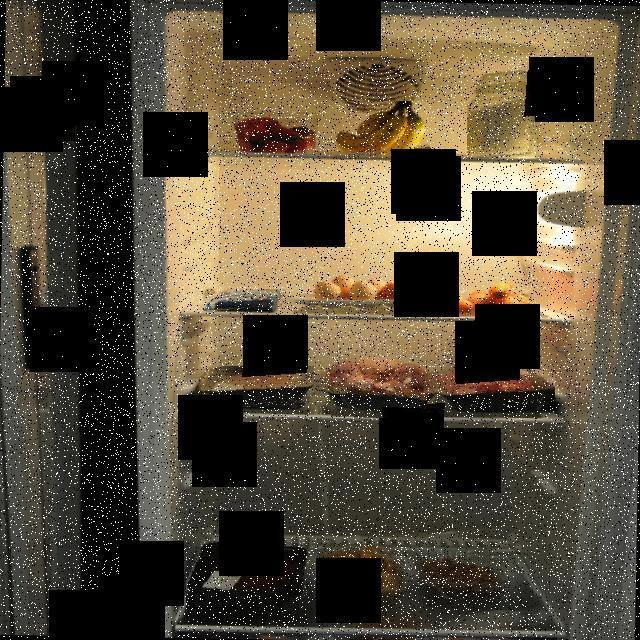banana: (329, 101, 430, 158)
beef: (186, 537, 312, 609)
carrot: (437, 276, 542, 317)
chicken: (316, 343, 444, 418)
chicken_breast: (199, 366, 315, 410)
chocolate: (200, 289, 286, 312)
egg: (309, 270, 412, 310)
ground_beef: (426, 367, 555, 410)
potato: (320, 543, 406, 598)
shrimp: (416, 550, 508, 600)
strawberries: (224, 111, 318, 156)
sugar: (468, 70, 540, 160)
